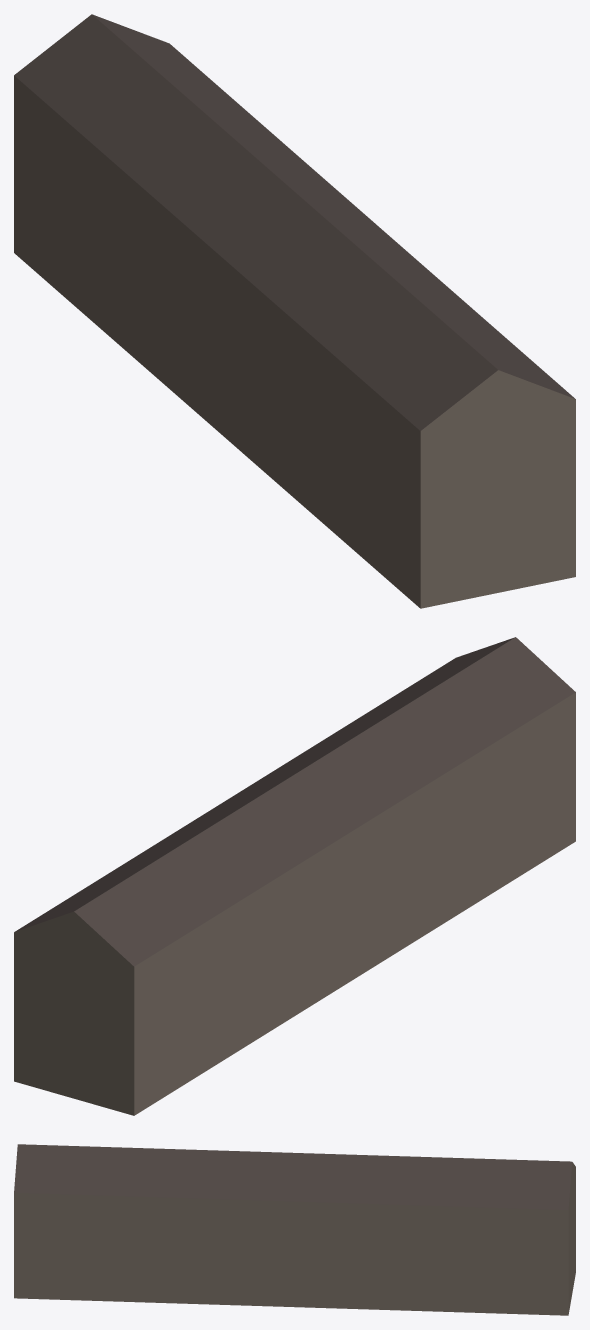
The picture shows the model from 3 angles, top to bottom: view 1: azimuth 30°, elevation 25°; view 2: azimuth 150°, elevation 25°; view 3: azimuth 270°, elevation 25°; orthographic projection. The views are drawn at different scales.
Visible parts, largest first — view 1: HP-w1318376921; view 2: HP-w1318376921; view 3: HP-w1318376921.
Boxes of the visible parts, left/top/right/bottom form: HP-w1318376921: left=14, top=14, right=575, bottom=608; HP-w1318376921: left=14, top=637, right=575, bottom=1115; HP-w1318376921: left=14, top=1144, right=575, bottom=1315.
Size of the model in its own units: 11.08 by 11.29 by 43.4.
